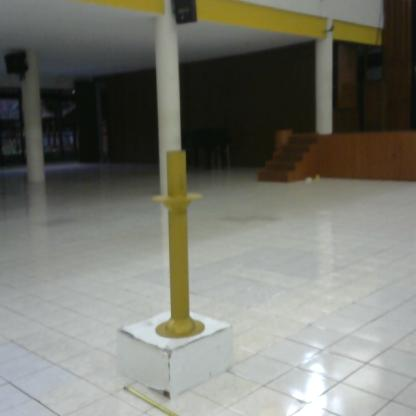pole: (151, 148, 212, 353)
